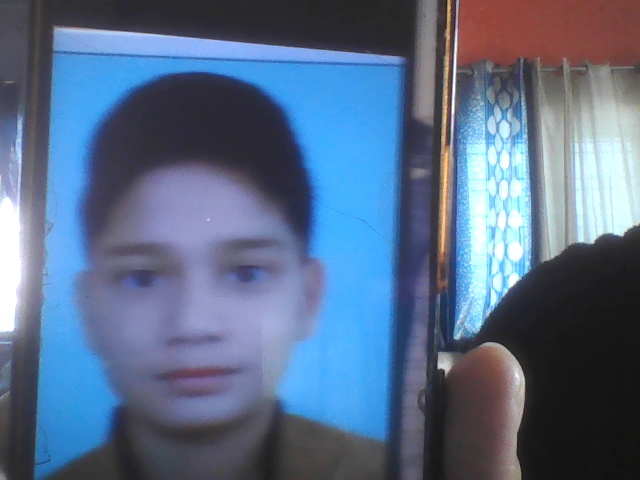fake: (65, 84, 331, 461)
